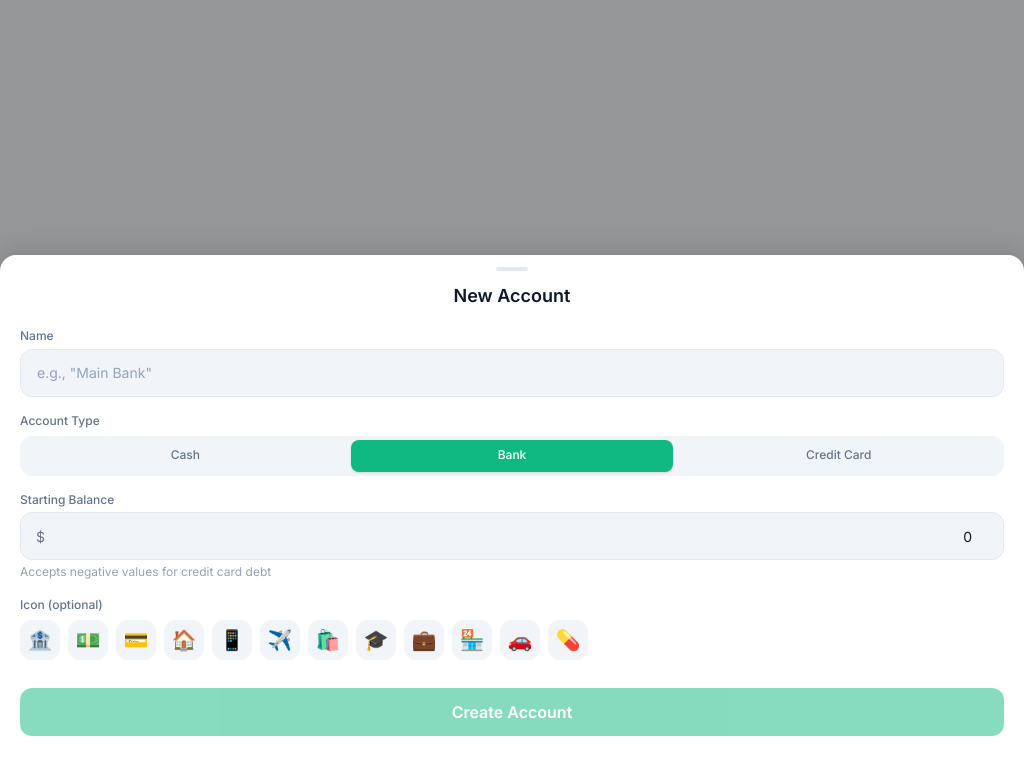
Test: AddAccountSheet › Create Account button is enabled when name is filled
Type "My Account" into the field with id "account-name" at (512, 373), box [20,349,1004,397]
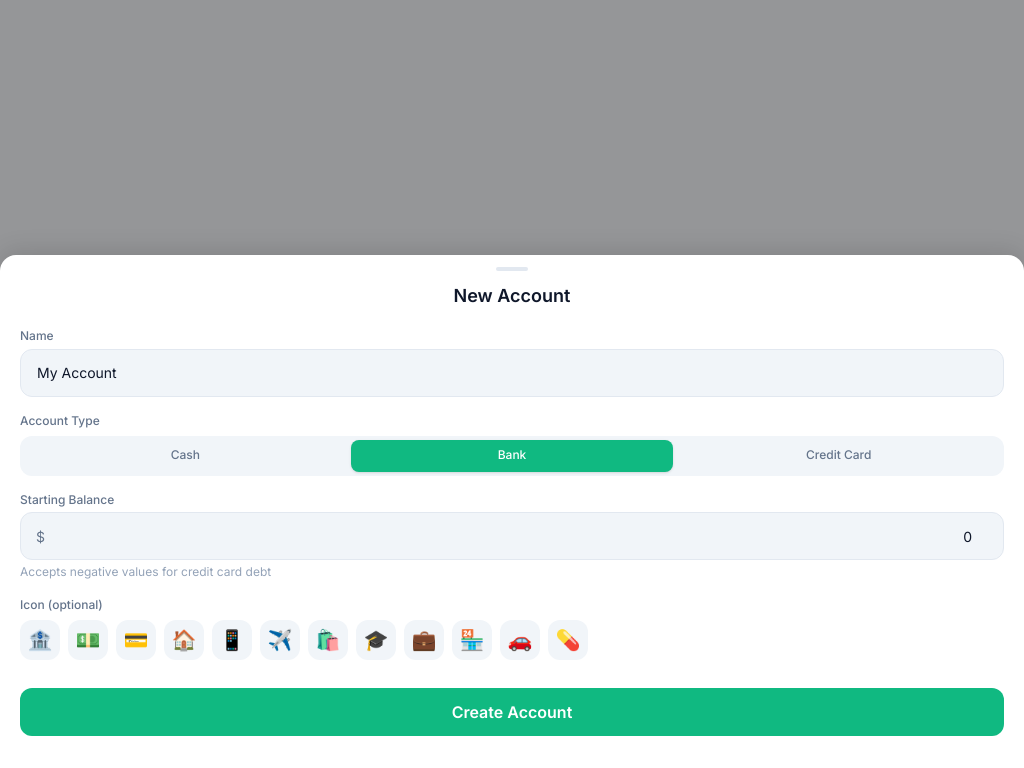
Now the button "Create Account" is enabled, box [20,688,1004,736]
